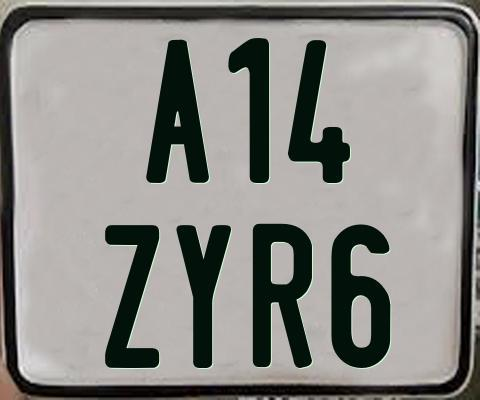1: (228, 38, 271, 186)
4: (288, 39, 352, 185)
6: (329, 224, 393, 370)
A: (143, 40, 208, 183)
R: (253, 224, 313, 371)
Y: (176, 224, 234, 369)
Z: (105, 222, 165, 370)
